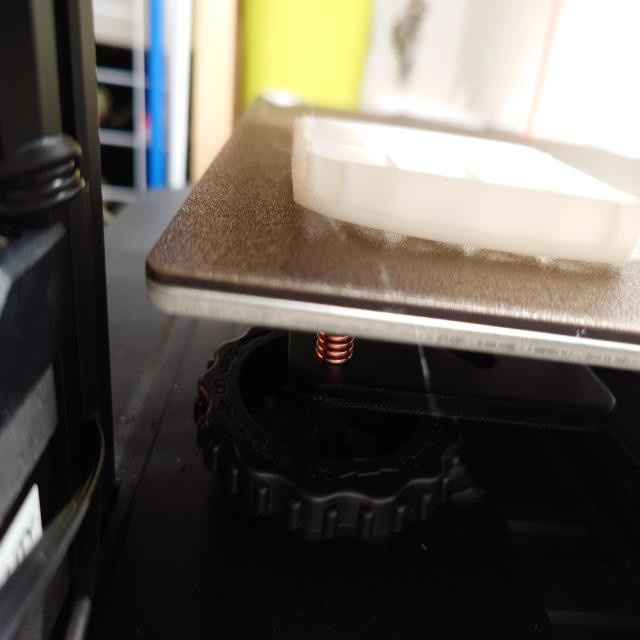Warping: (287, 178, 433, 258)
